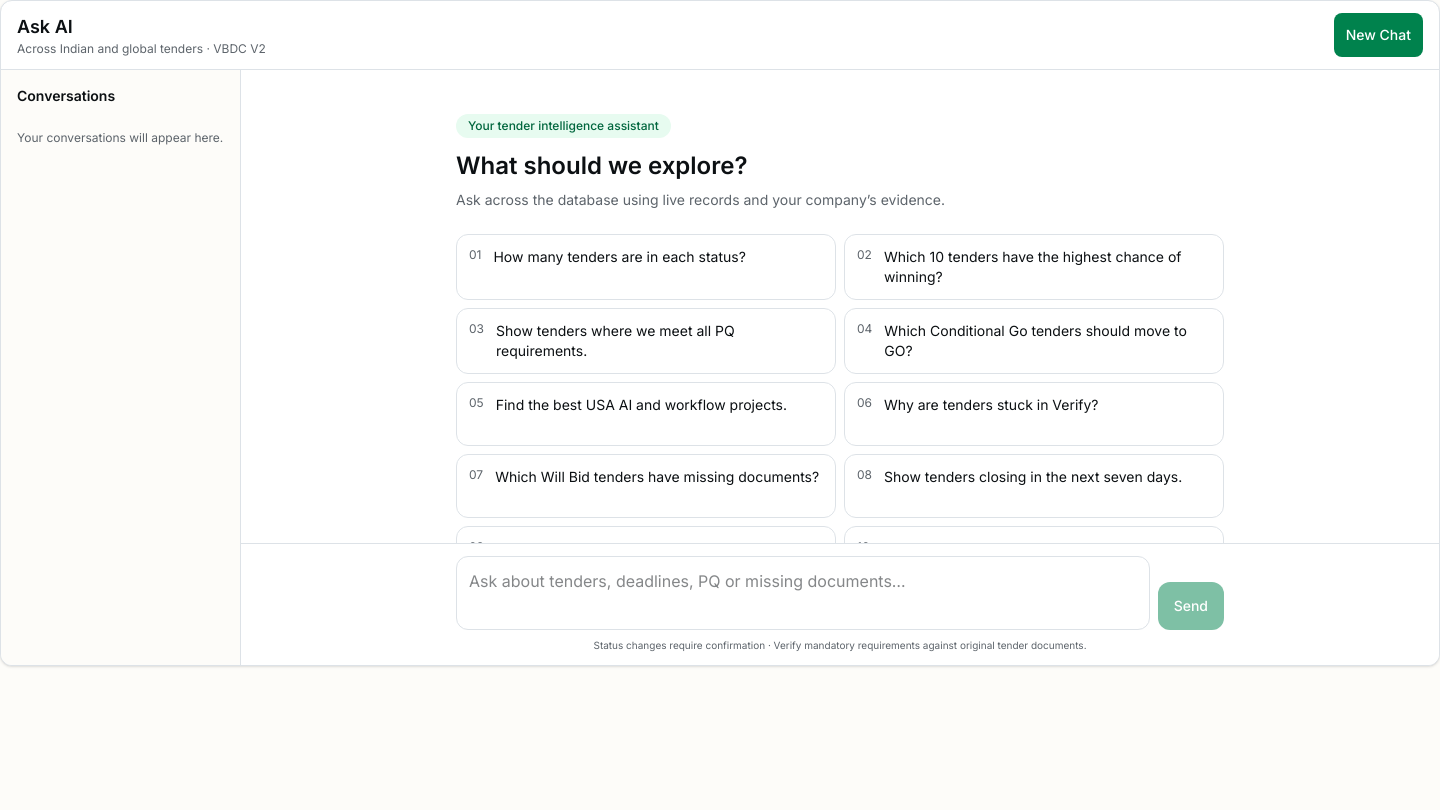
Test: Global Ask AI › shows all ten live-question buttons and automatically sends a global request
The width and height of the screenshot is (1440, 810).
Expected: the button "Which 10 tenders have the highest chance of winning?" is shown, left=844, top=234, right=1224, bottom=300
Expected: the button "Show tenders where we meet all PQ requirements." is shown, left=456, top=308, right=836, bottom=374
Click the button "01 How many tenders are in each status?".
click(646, 267)  # box left=456, top=234, right=836, bottom=300
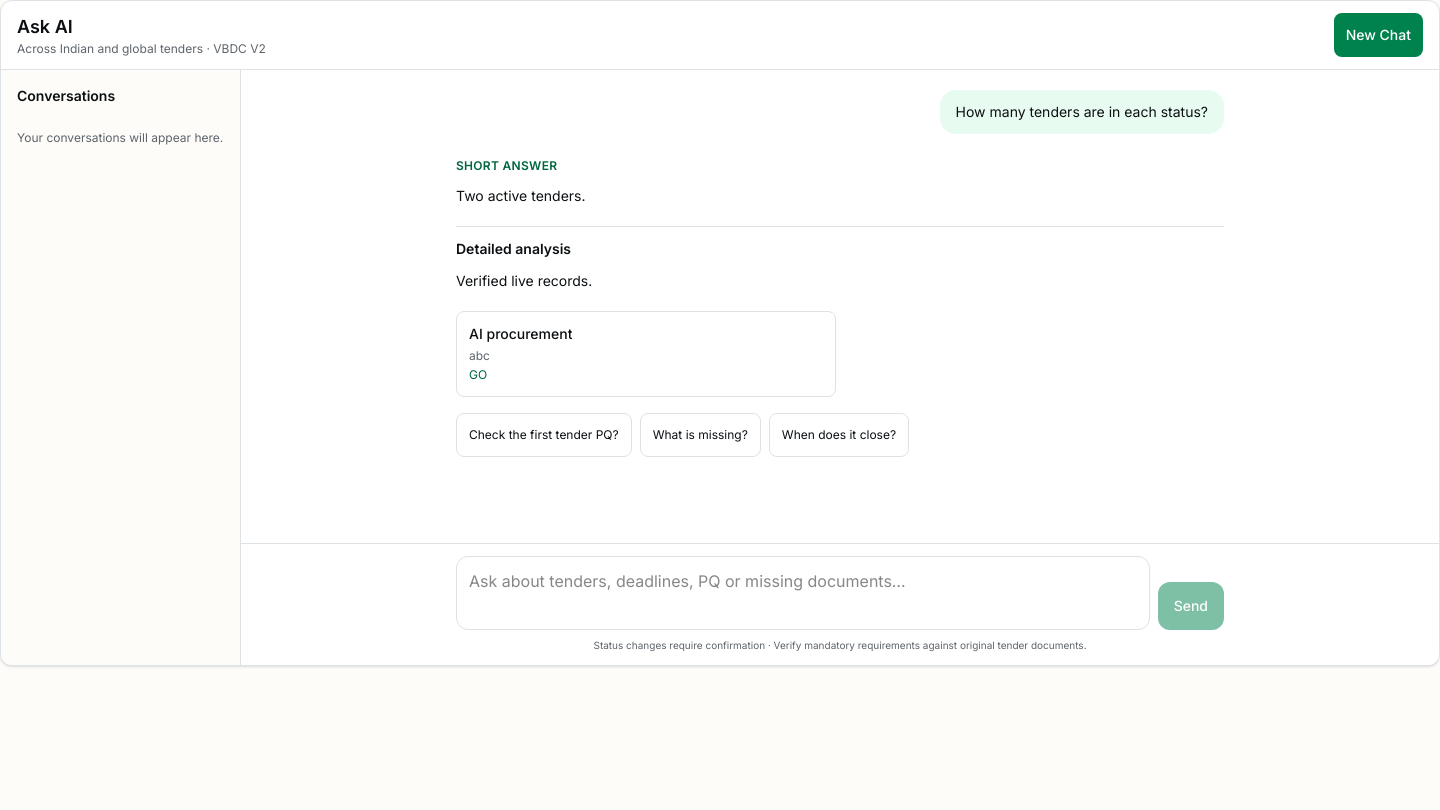
Expected: the text "Two active tenders." is shown, left=456, top=187, right=586, bottom=204
